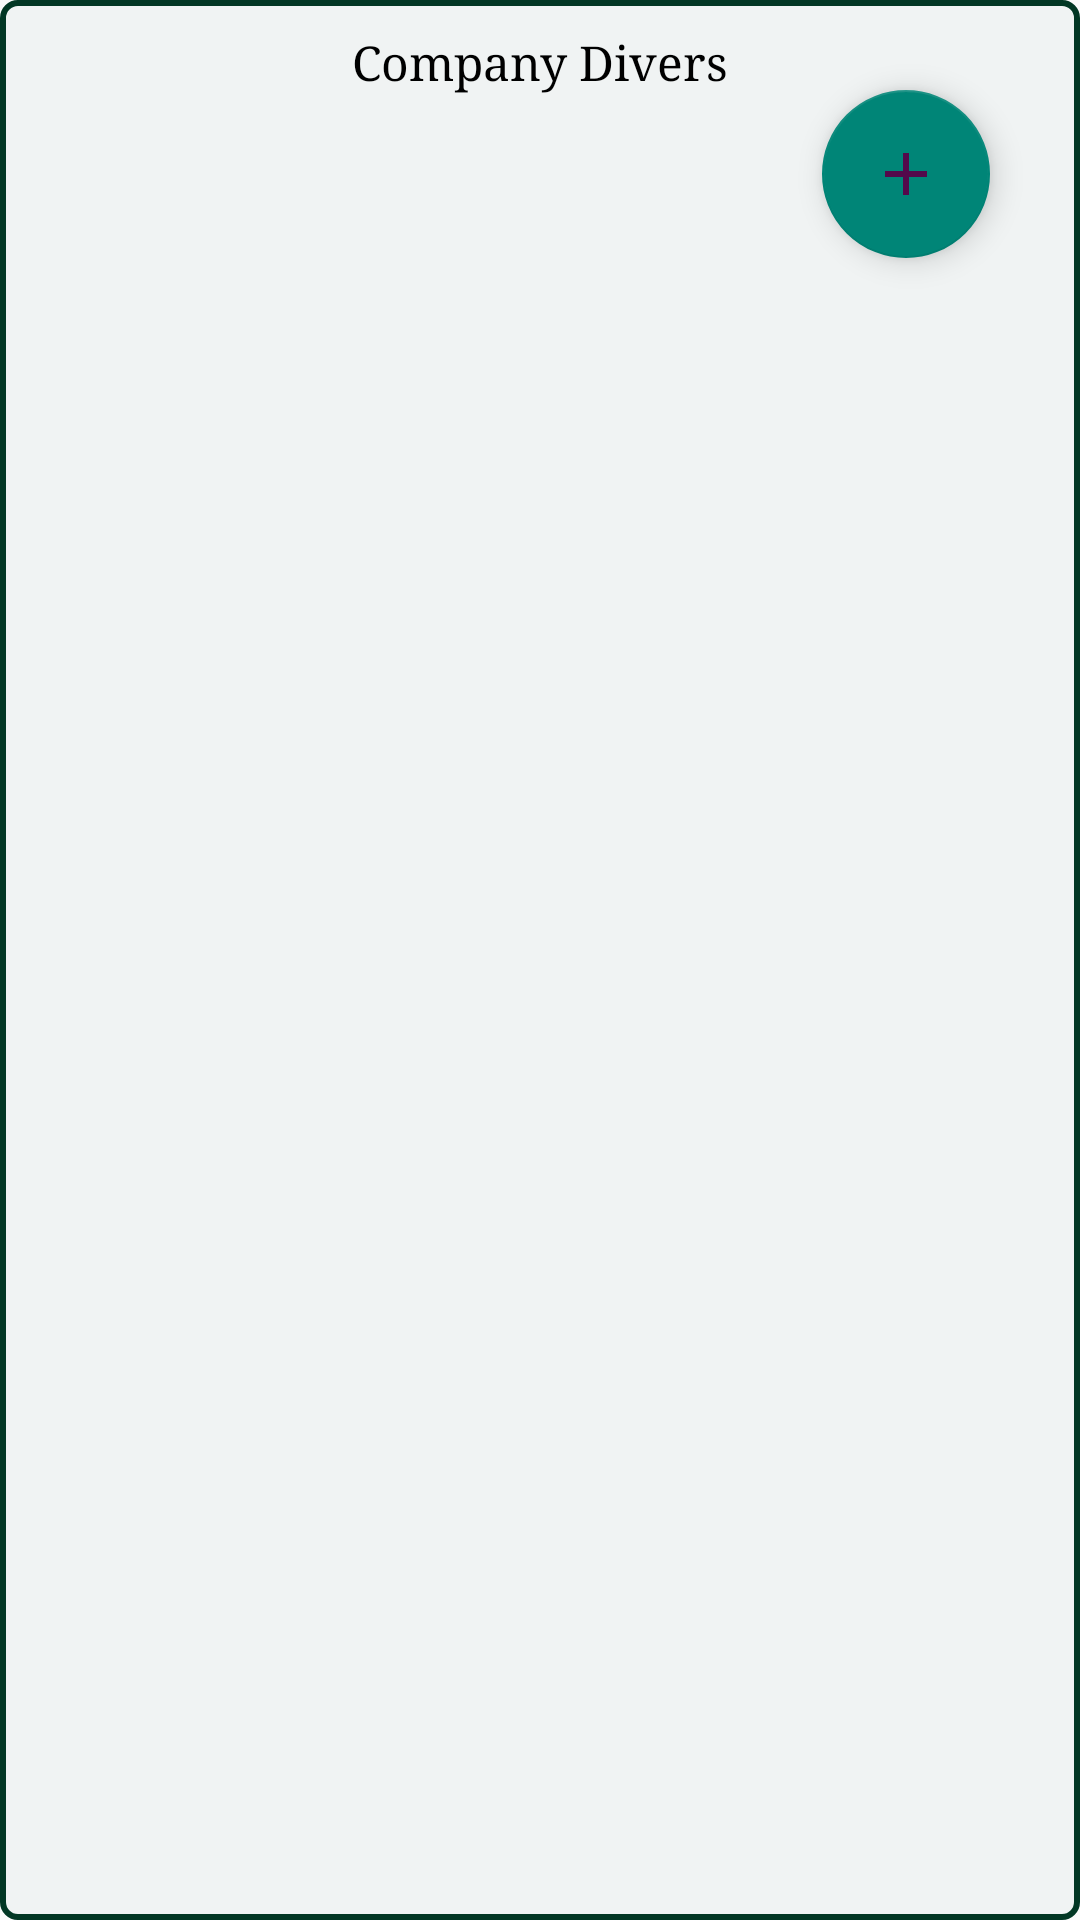

Where to tap for icons on this 1080px x 1920px app screen, as (x=x, y=y):
add: (x=906, y=174)
